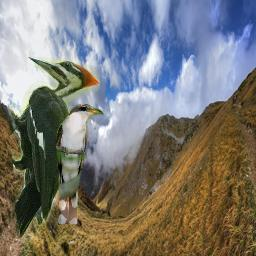Cuckoo: (55, 103, 104, 224)
Woodpecker: (8, 57, 100, 238)
